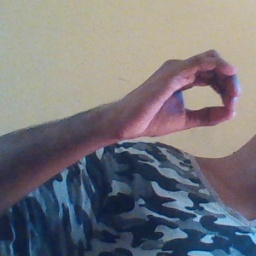O: (120, 46, 245, 142)
